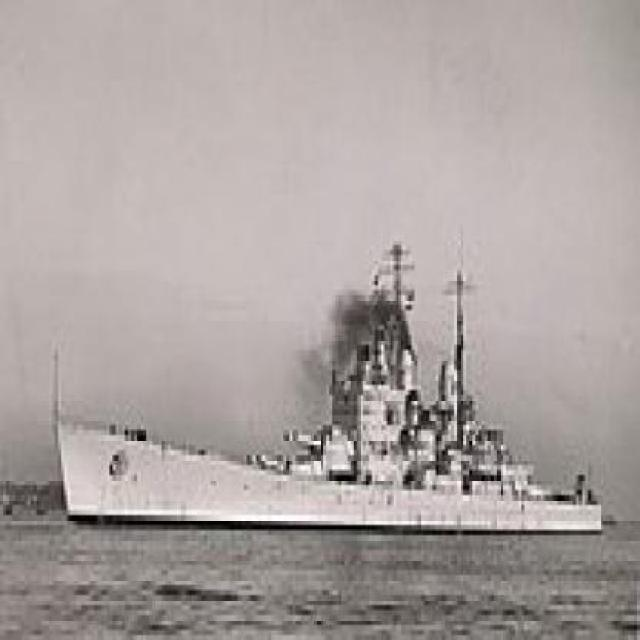warship2: (53, 236, 611, 547)
